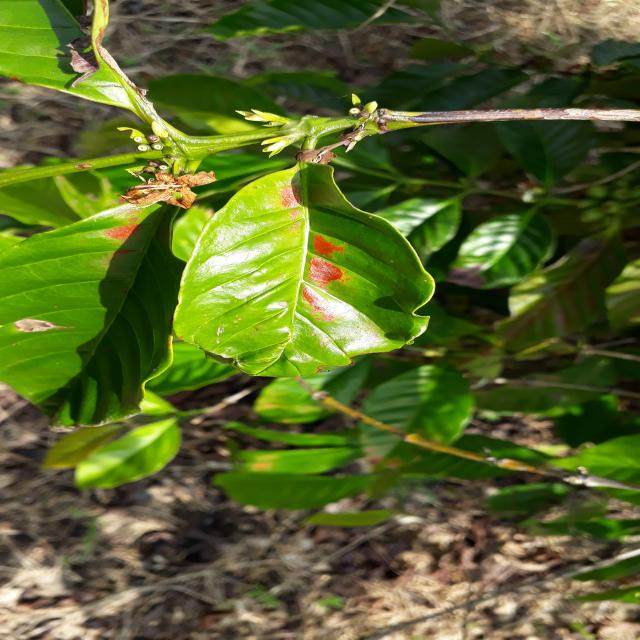Plaga-AranaRoja: (173, 162, 436, 379)
